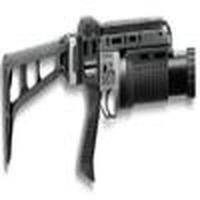gun: (5, 17, 196, 179)
